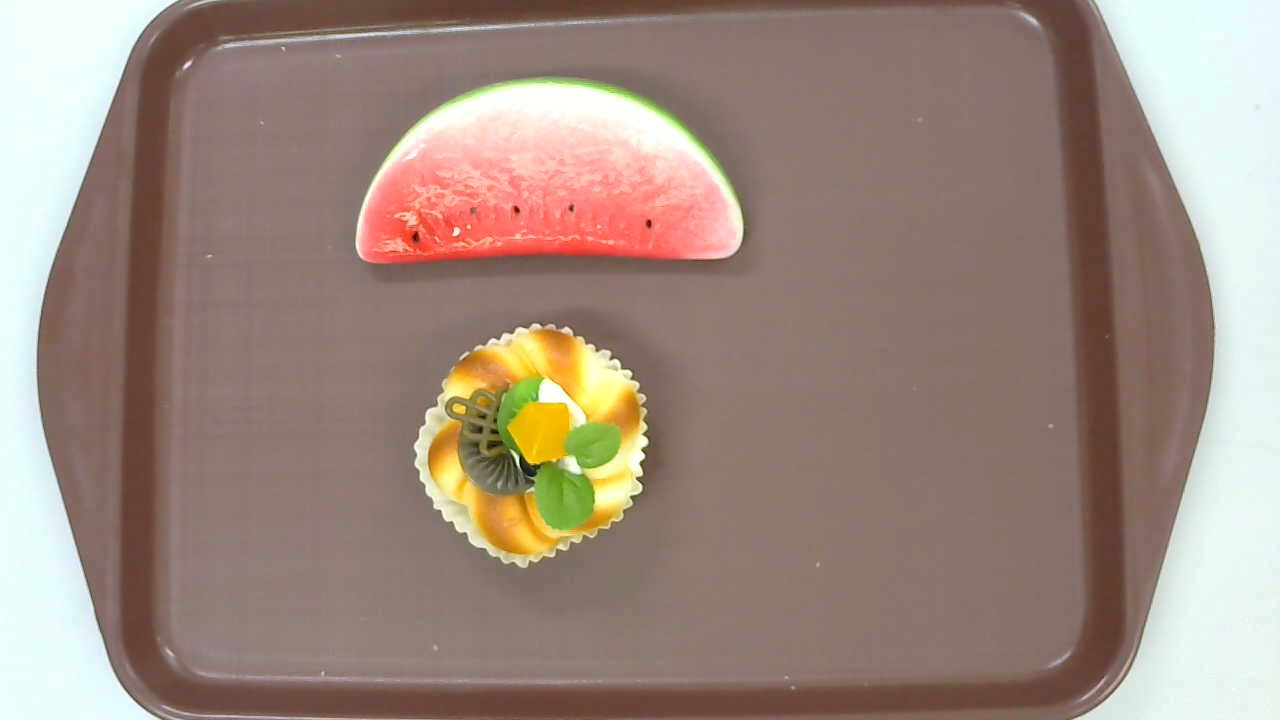fruit tart: (412, 323, 649, 569)
water melon: (353, 74, 746, 264)
